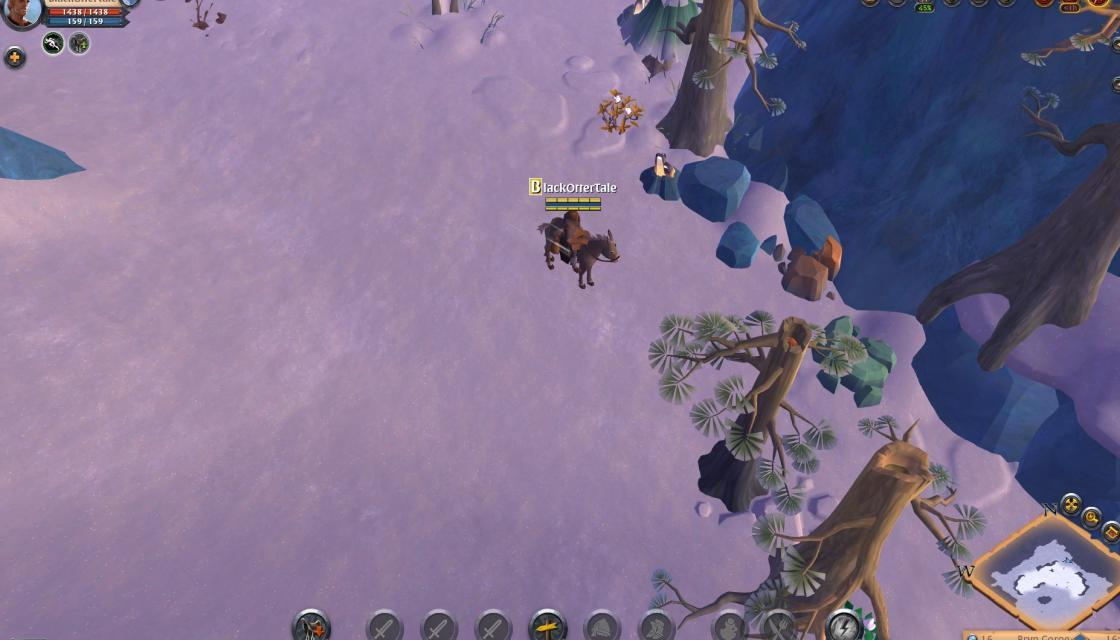copperore: (636, 145, 685, 203)
limestone: (764, 230, 848, 300)
sandstone: (810, 310, 900, 408)
